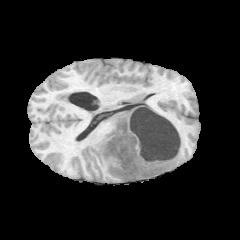glioma: (64, 94, 182, 180)
